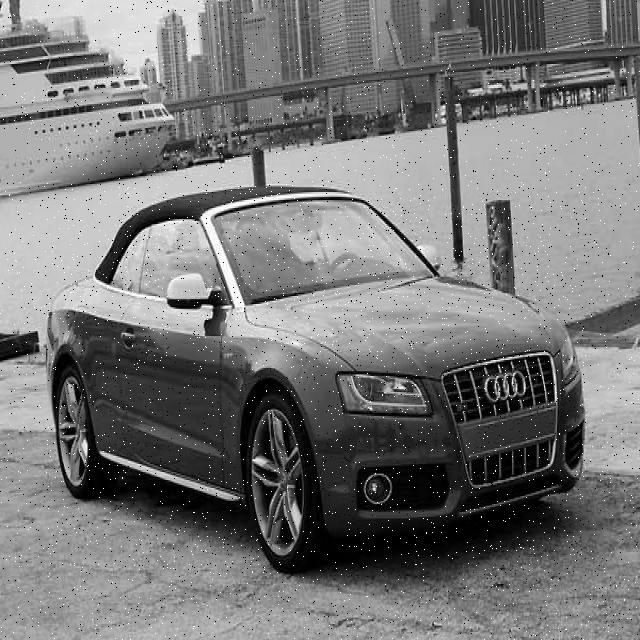Sedan: (45, 184, 587, 576)
